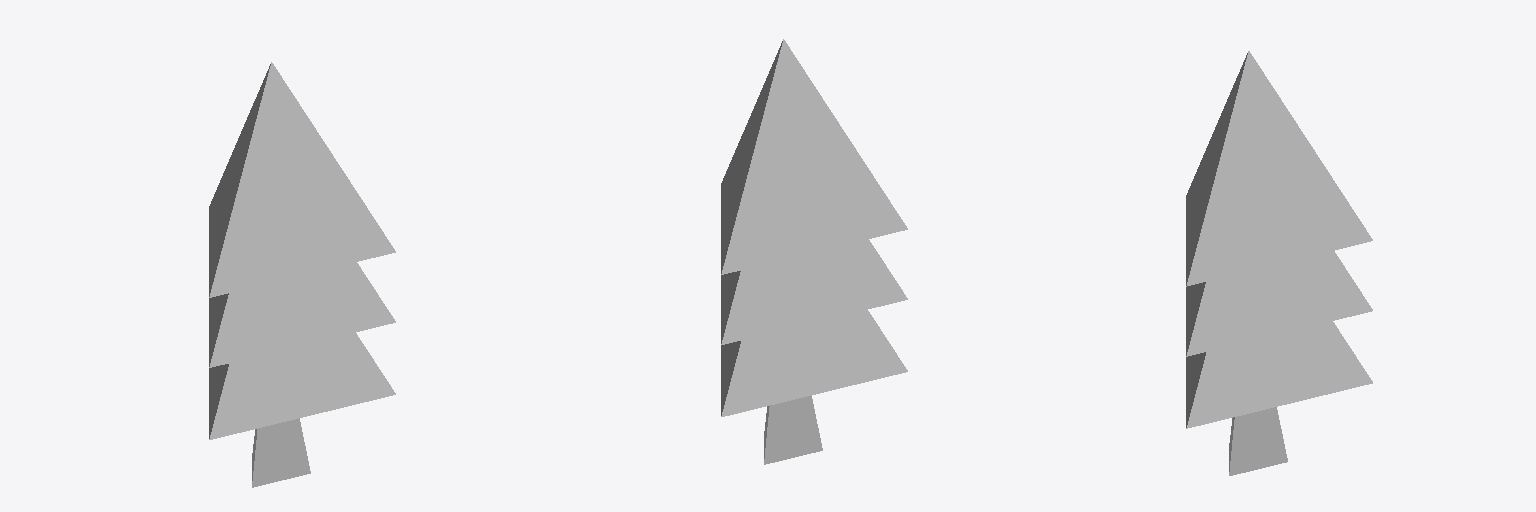
File: tree.obj
3 renders of one model, left to right at view 1: azimuth 30°, elevation 25°; view 2: azimuth 150°, elevation 25°; view 3: azimuth 270°, elevation 25°, orthographic.
Visible parts, largest first — view 1: Cone.000_Cone.009; view 2: Cone.000_Cone.009; view 3: Cone.000_Cone.009.
Part boxes in pixels (left/top/right/bottom): Cone.000_Cone.009: left=209, top=62, right=395, bottom=487; Cone.000_Cone.009: left=721, top=39, right=907, bottom=464; Cone.000_Cone.009: left=1186, top=51, right=1372, bottom=475.
Size of the model in its own units: 0.7078 by 1.49 by 0.613.